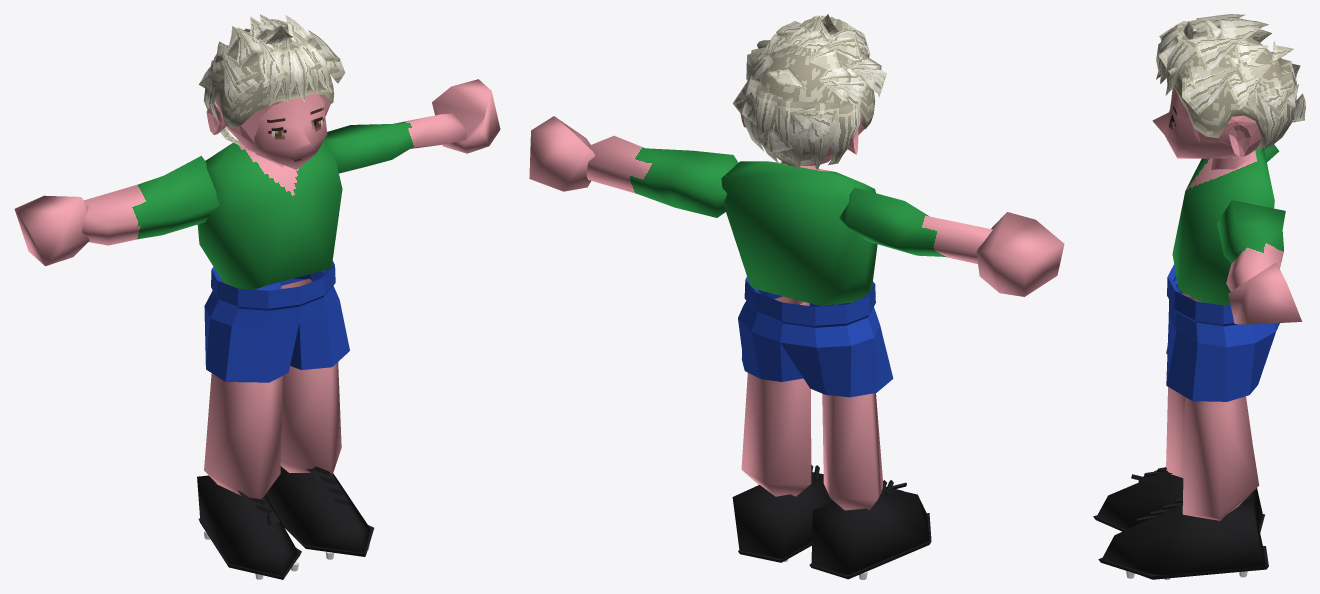
The model's file is 06-espetado-gel_loiro-pintado.glb.
3 views of the same model, side by side, from view 1: azimuth 30°, elevation 25°; view 2: azimuth 150°, elevation 25°; view 3: azimuth 270°, elevation 25° (orthographic). The views are drawn at different scales.
Parts seen in each view (by area): view 1: Camisa_Tronco, Bermuda, Cabelo, Perna.R, Braco.R, Perna.L, Chuteira.R, Chuteira.L, Braco.L, Cabeca, Mao.R, Mao.L (+2 smaller); view 2: Camisa_Tronco, Cabelo, Bermuda, Perna.L, Braco.L, Chuteira.R, Perna.R, Braco.R, Mao.R, Chuteira.L, Mao.L, Chuteira_Sola.R; view 3: Cabelo, Bermuda, Chuteira.L, Camisa_Tronco, Perna.L, Braco.L, Mao.L, Chuteira.R, Cabeca, Perna.R, Chuteira_Sola.L, Cranio (+4 smaller).
Part boxes in pixels (x1,y1,x2,y2): Camisa_Tronco: (197,140,342,289); Bermuda: (204,261,349,382); Cabelo: (199,14,345,148); Perna.R: (204,373,282,503); Braco.R: (82,156,219,245); Perna.L: (280,278,341,474); Chuteira.R: (197,475,299,575); Chuteira.L: (265,466,369,553); Braco.L: (324,113,467,173); Cabeca: (231,93,327,169); Mao.R: (14,195,89,266); Mao.L: (432,79,500,153); Camisa_Tronco: (721,161,877,305); Cabelo: (732,14,886,169); Bermuda: (738,277,893,397); Perna.L: (741,296,811,496); Braco.L: (586,135,738,217); Chuteira.R: (811,487,929,574); Perna.R: (822,393,883,510); Braco.R: (839,187,992,263); Mao.R: (976,212,1064,296); Chuteira.L: (732,472,833,558); Mao.L: (529,116,595,191); Chuteira_Sola.R: (809,513,931,579); Cabelo: (1156,14,1305,150); Bermuda: (1166,264,1279,401); Chuteira.L: (1102,499,1266,579); Camisa_Tronco: (1172,148,1274,305); Perna.L: (1182,396,1259,520); Braco.L: (1217,200,1285,291); Mao.L: (1228,262,1302,324); Chuteira.R: (1097,470,1262,529); Cabeca: (1152,88,1244,158); Perna.R: (1166,292,1252,477); Chuteira_Sola.L: (1098,546,1268,579); Cranio: (1192,115,1261,158).
Size of the model in its own units: 0.4523 by 0.4575 by 0.1645.
3 materials, 3 textured.
